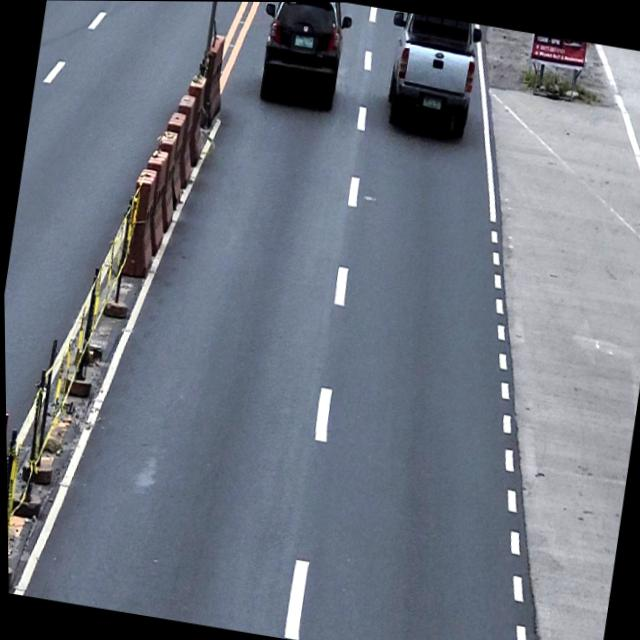Car: (374, 10, 488, 148), (250, 1, 358, 112)
License-Plate: (293, 32, 315, 50), (421, 94, 442, 110)
